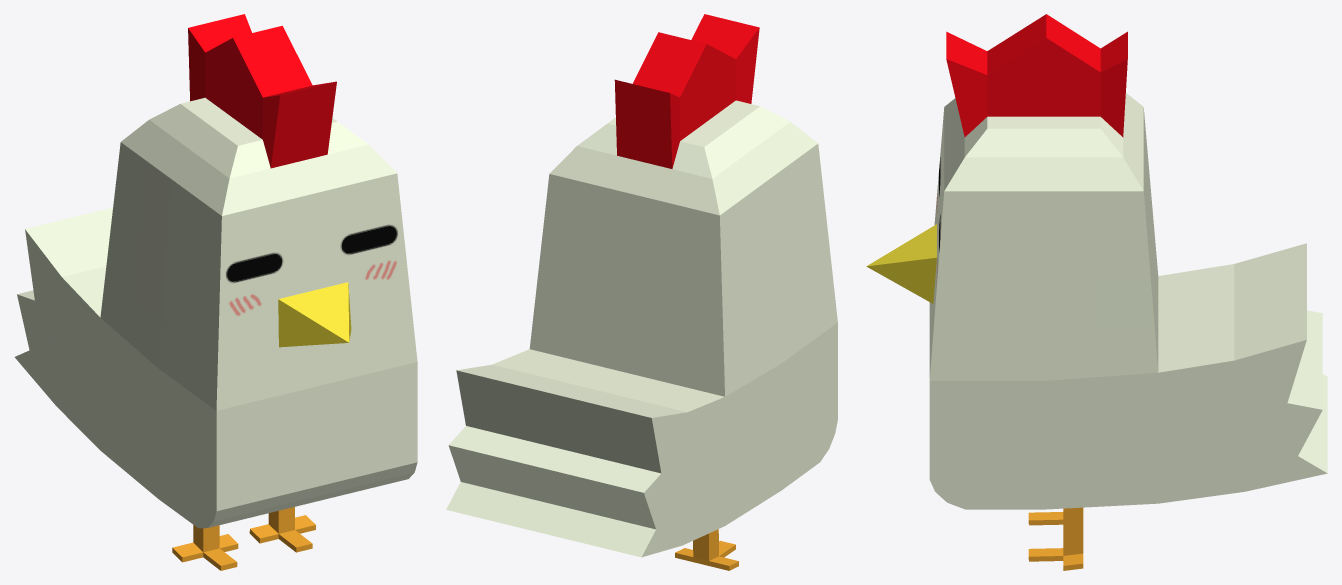
Rendered from chickentextured.fbx.
3 renders of one model, left to right at view 1: azimuth 30°, elevation 25°; view 2: azimuth 150°, elevation 25°; view 3: azimuth 270°, elevation 25°, orthographic. The views are drawn at different scales.
Parts seen in each view (by area): view 1: chicken; view 2: chicken; view 3: chicken.
Part boxes in pixels (x1,y1,x2,y2): chicken: (14,14,417,570); chicken: (446,14,837,570); chicken: (866,14,1327,570).
Size of the model in its own units: 200 by 496 by 404.
Materials: 1 (1 with a texture image).
